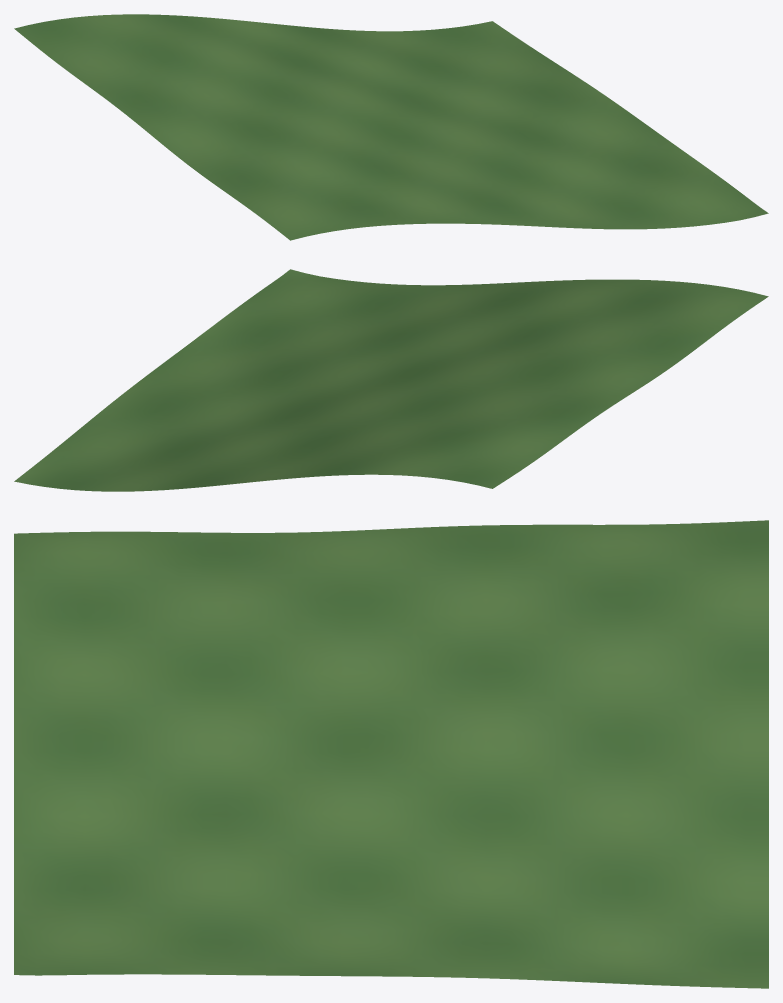
The model's file is chunk_0_11.glb.
3 views of the same model, one above another, from view 1: azimuth 30°, elevation 25°; view 2: azimuth 150°, elevation 25°; view 3: azimuth 270°, elevation 25° (orthographic). The views are drawn at different scales.
Bounding box in the file's own units: 512 × 112 × 512.
